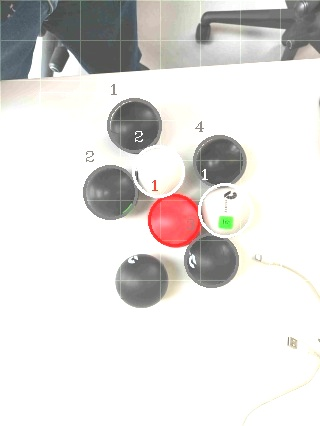Pelota blanca: (196, 182, 254, 238), (113, 252, 169, 310), (129, 142, 185, 198), (239, 393, 320, 425)
Pelota negra: (42, 0, 142, 75), (106, 95, 163, 155), (113, 252, 169, 310), (82, 164, 137, 222), (191, 134, 249, 187), (183, 236, 241, 288)
Pelota roja: (145, 193, 201, 248)
